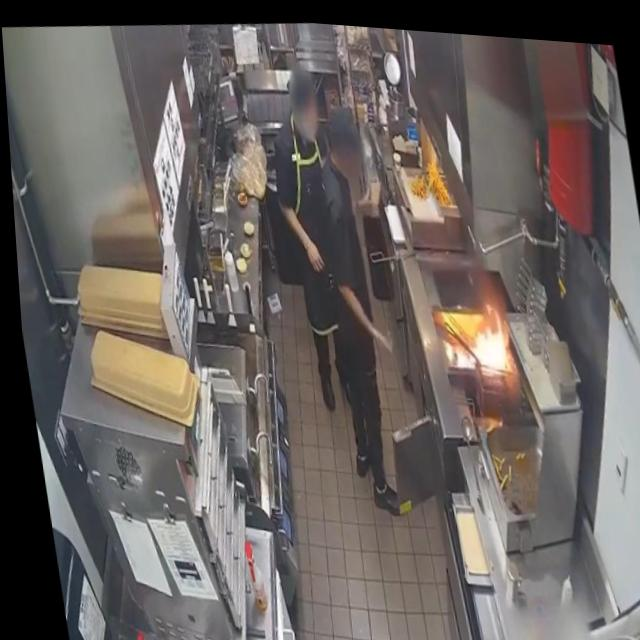fire: (444, 301, 511, 368)
